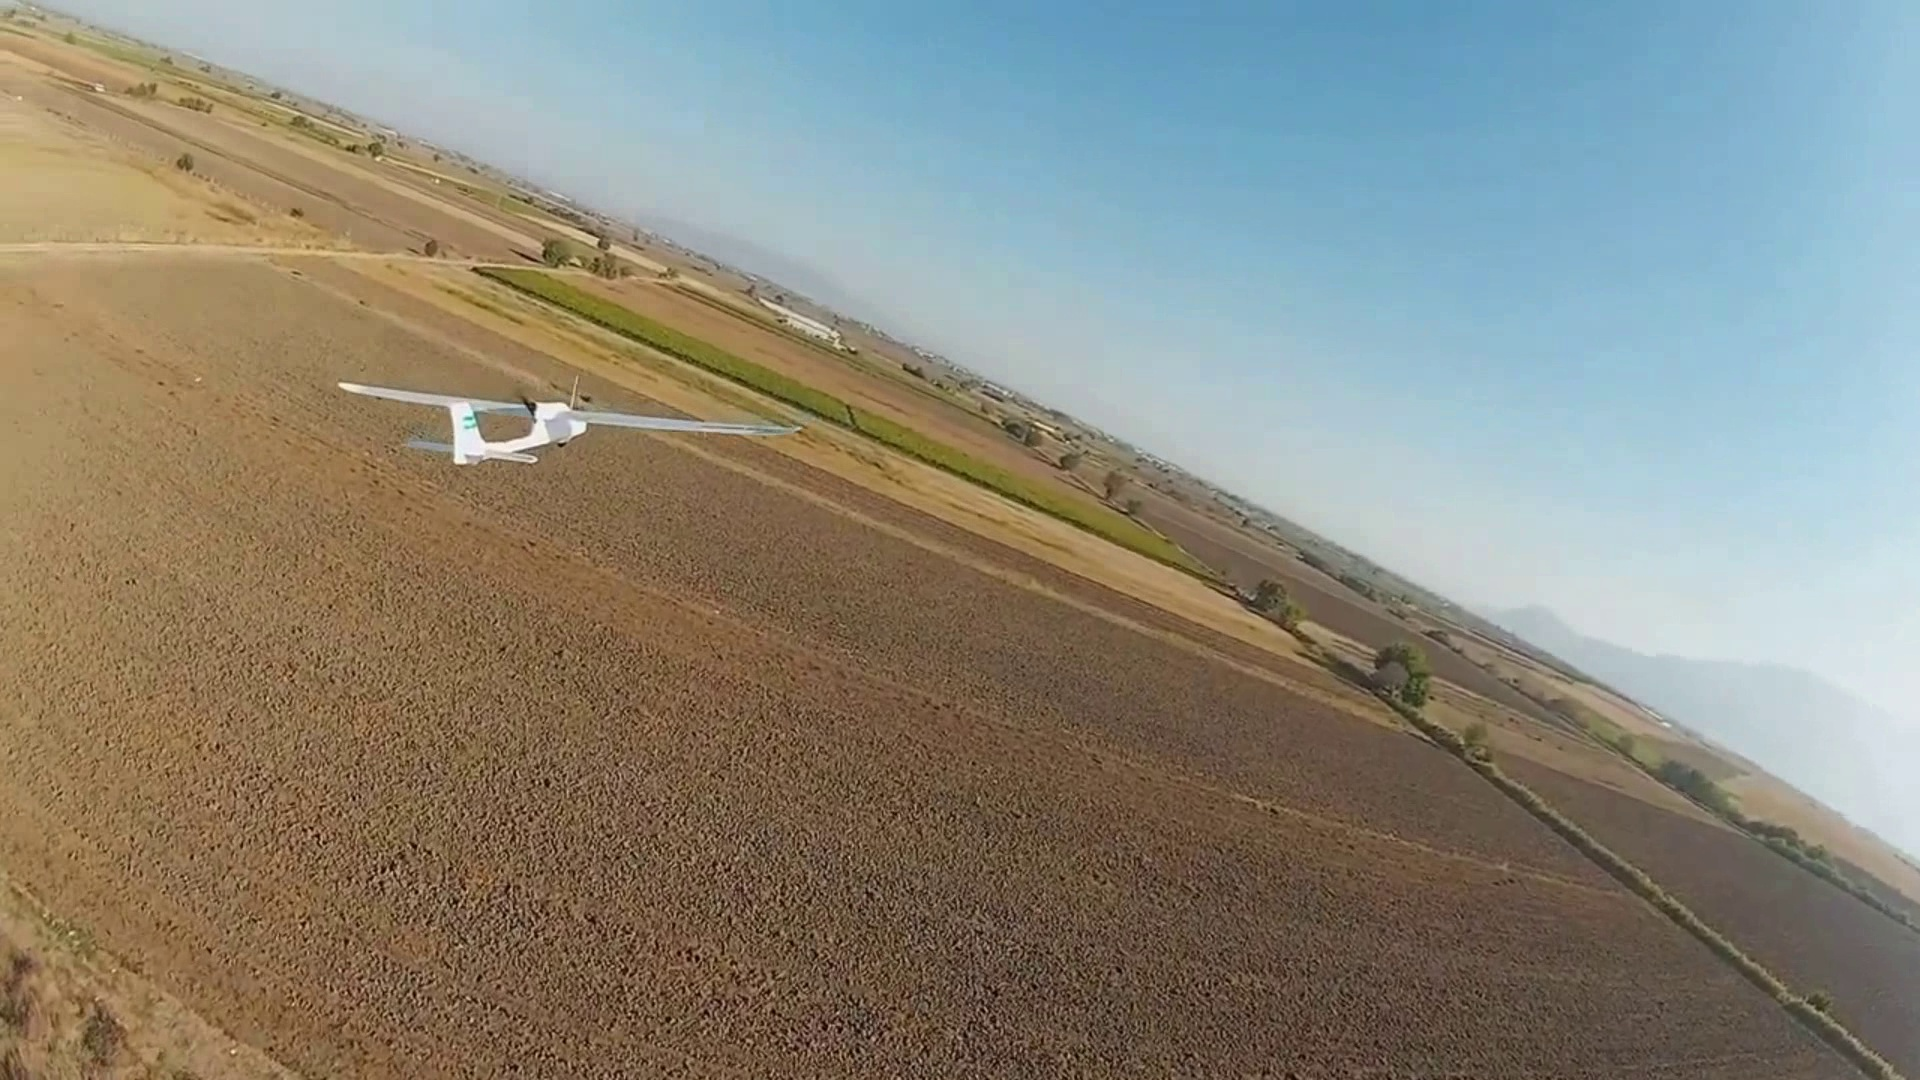airplane: (337, 382, 592, 465)
